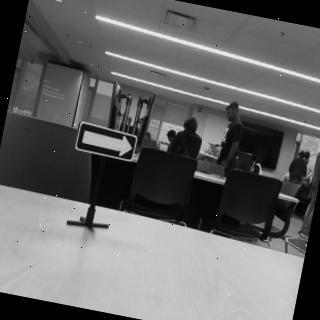sign_oneway_right: (74, 121, 140, 167)
